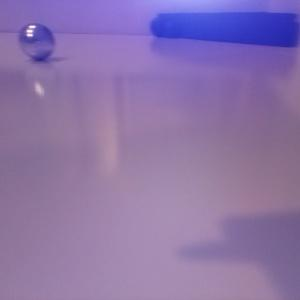alive_ball: (17, 23, 54, 60)
dead_ball: (150, 17, 169, 37), (162, 21, 180, 38)
